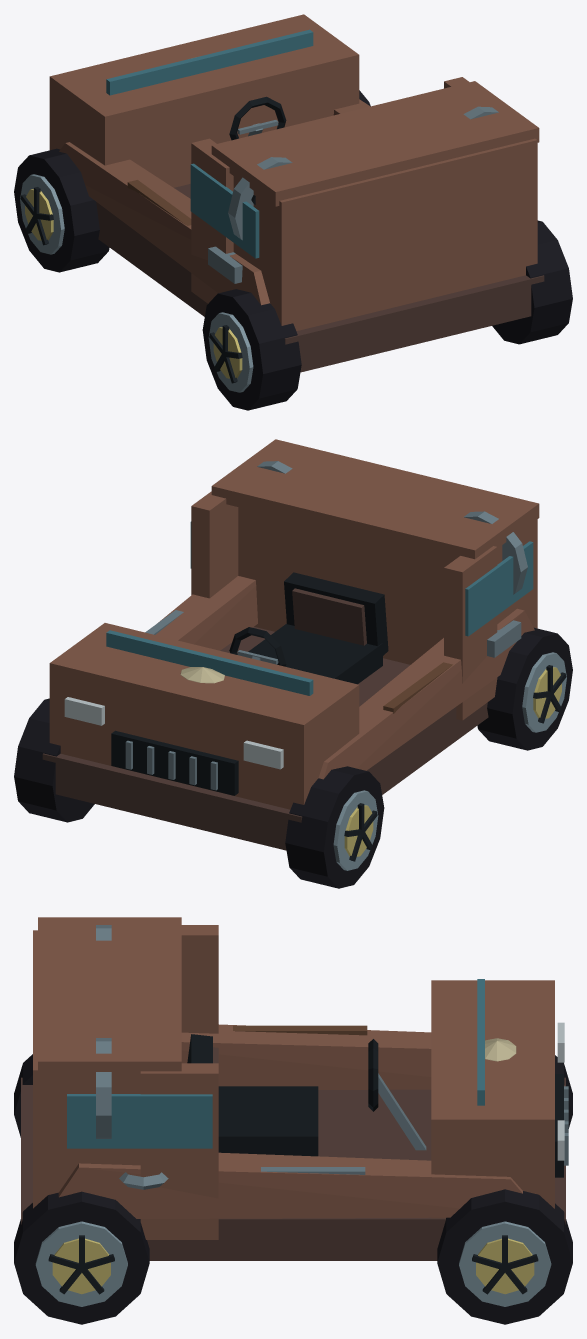
The model's file is kart.glb.
3 renders of one model, top to bottom at view 1: azimuth 30°, elevation 25°; view 2: azimuth 150°, elevation 25°; view 3: azimuth 270°, elevation 25°, orthographic. The views are drawn at different scales.
Visible parts, largest first — view 1: identity-van-van-utility-body, wheel-rear-left, wheel-front-left, wheel-rear-right, identity-van-motif-tools, identity-van-motif-film, identity-van-driver-cockpit; view 2: identity-van-van-utility-body, identity-van-driver-cockpit, wheel-front-left, wheel-rear-left, wheel-front-right, identity-van-motif-tools, identity-van-motif-film, identity-van-motif-skull; view 3: identity-van-van-utility-body, wheel-front-right, wheel-rear-right, identity-van-driver-cockpit, identity-van-motif-tools, identity-van-motif-film, wheel-rear-left, identity-van-motif-skull.
Part boxes in pixels (x1,y1,x2,y2): identity-van-van-utility-body: [49, 14, 544, 372]; wheel-rear-left: [202, 289, 301, 410]; wheel-front-left: [14, 148, 109, 272]; wheel-rear-right: [492, 220, 572, 344]; identity-van-motif-tools: [127, 180, 242, 283]; identity-van-motif-film: [228, 106, 498, 240]; identity-van-driver-cockpit: [229, 96, 286, 140]; identity-van-van-utility-body: [42, 439, 539, 850]; identity-van-driver-cockpit: [229, 572, 388, 684]; wheel-front-left: [285, 766, 384, 888]; wheel-rear-left: [477, 627, 572, 750]; wheel-front-right: [14, 698, 94, 822]; identity-van-motif-tools: [145, 610, 521, 713]; identity-van-motif-film: [257, 461, 527, 594]; identity-van-motif-skull: [180, 667, 224, 683]; identity-van-van-utility-body: [21, 917, 568, 1260]; wheel-front-right: [437, 1189, 572, 1324]; wheel-rear-right: [14, 1191, 149, 1324]; identity-van-driver-cockpit: [187, 1034, 426, 1156]; identity-van-motif-tools: [119, 1025, 367, 1189]; identity-van-motif-film: [96, 925, 111, 1138]; wheel-rear-left: [14, 1054, 32, 1137]; identity-van-motif-skull: [485, 1038, 516, 1061].
Size of the model in its own units: 2.13 by 1.41 by 2.8.
